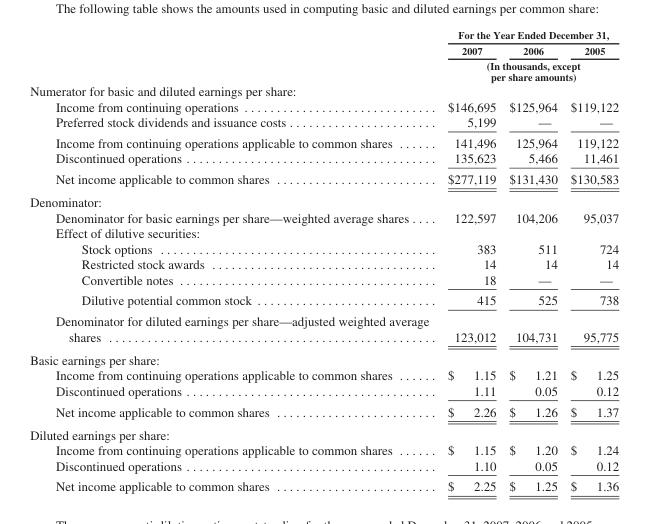table: (29, 28, 618, 493)
table column: (29, 28, 437, 493), (437, 28, 502, 493), (502, 28, 563, 493), (563, 28, 618, 493)
table column header: (29, 28, 618, 82)
table projected row header: (29, 347, 618, 367), (29, 422, 618, 442), (29, 190, 618, 209), (29, 82, 618, 98), (29, 225, 618, 240)
table row: (29, 310, 618, 347), (29, 57, 618, 82), (29, 168, 618, 190), (29, 400, 618, 422), (29, 289, 618, 310), (29, 347, 618, 367), (29, 422, 618, 442), (29, 113, 618, 132), (29, 190, 618, 209), (29, 132, 618, 150), (29, 150, 618, 168), (29, 271, 618, 289), (29, 382, 618, 400), (29, 457, 618, 475), (29, 475, 618, 493), (29, 82, 618, 98), (29, 209, 618, 225), (29, 240, 618, 256), (29, 42, 618, 57), (29, 98, 618, 113), (29, 225, 618, 240), (29, 256, 618, 271), (29, 367, 618, 382), (29, 442, 618, 457), (29, 28, 618, 42)
table spanning cell: (437, 57, 618, 82), (437, 28, 618, 42)
